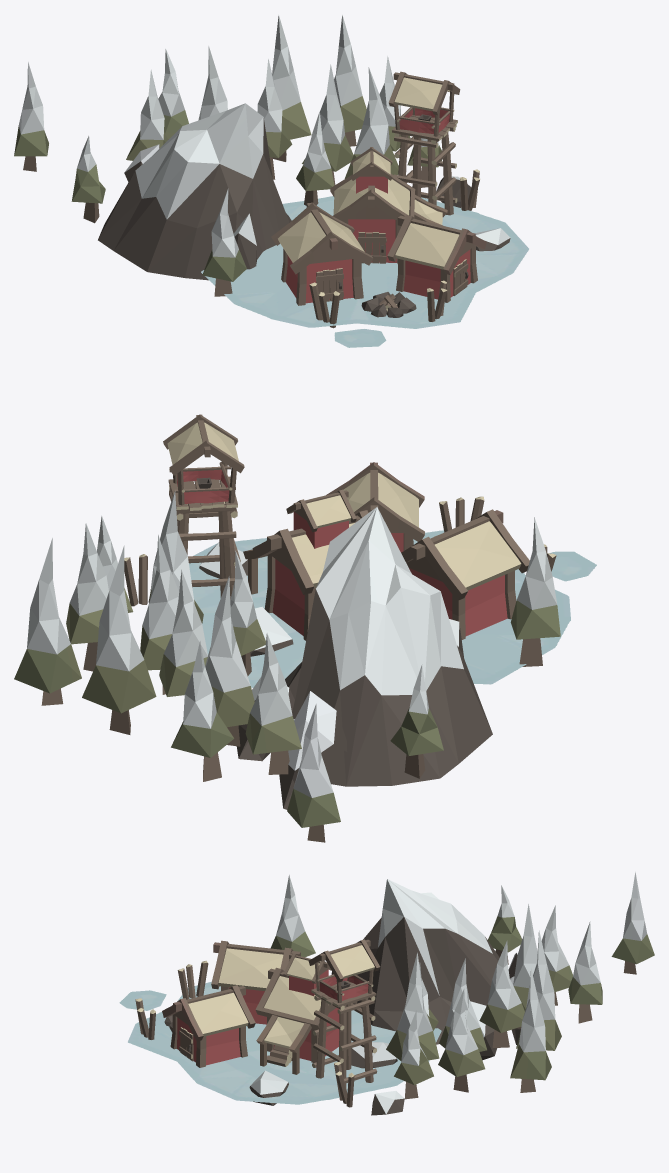
The model's file is townTundra01.fbx.
3 views of the same model, one above another, from view 1: azimuth 30°, elevation 25°; view 2: azimuth 150°, elevation 25°; view 3: azimuth 270°, elevation 25° (orthographic). The views are drawn at different scales.
Visible parts, largest first — view 1: townTundra01, groundDecal; view 2: townTundra01, groundDecal; view 3: townTundra01, groundDecal.
Part boxes in pixels (left/top/right/bottom): townTundra01: left=14, top=15, right=510, bottom=328; groundDecal: left=201, top=196, right=528, bottom=347; townTundra01: left=14, top=414, right=560, bottom=842; groundDecal: left=189, top=530, right=596, bottom=687; townTundra01: left=135, top=872, right=654, bottom=1115; groundDecal: left=119, top=981, right=441, bottom=1104.
Bounding box in the file's own units: 9.37 × 3.28 × 10.65.
2 materials, 2 textured.
